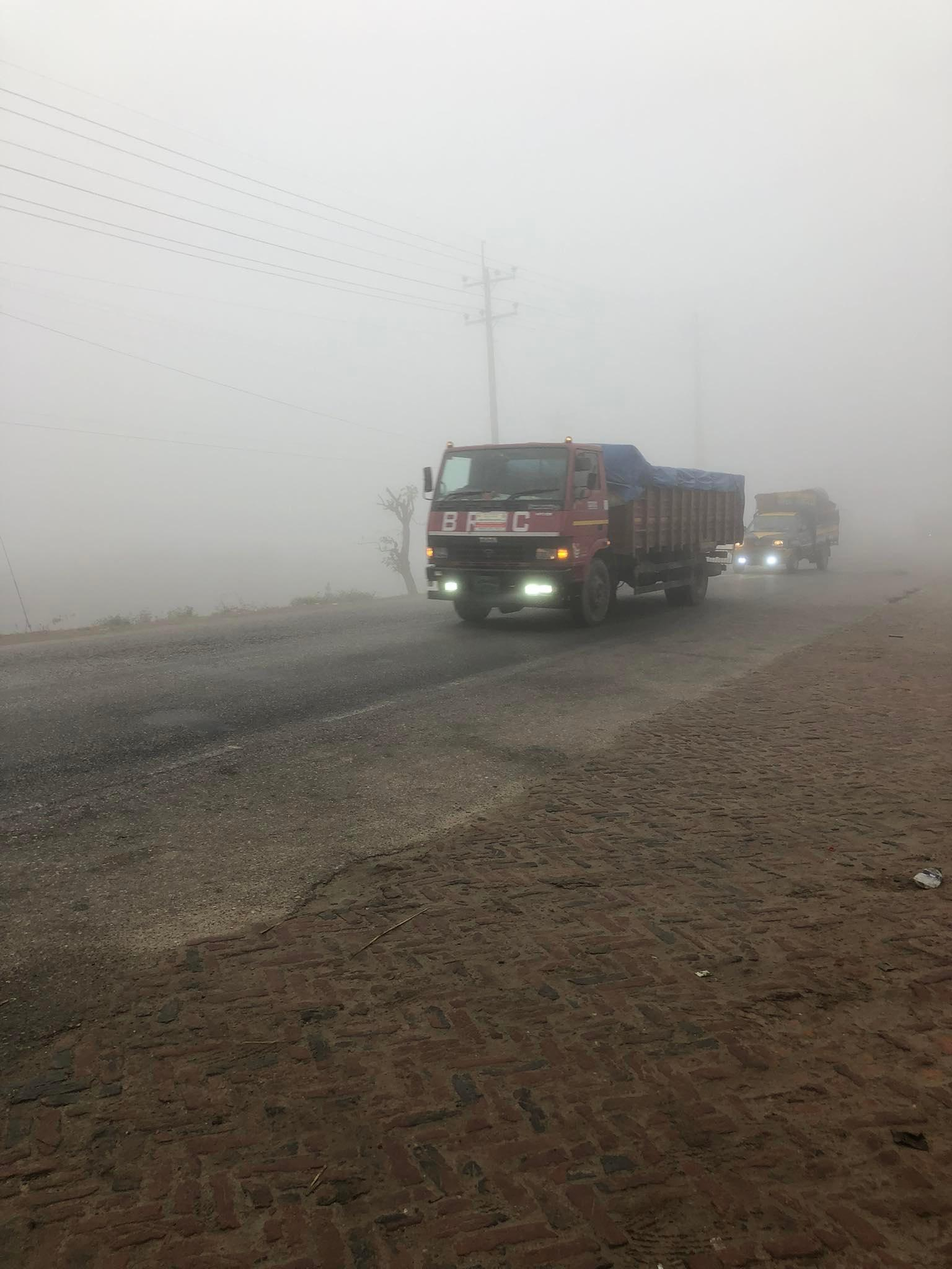Truck: (407, 414, 756, 631), (743, 485, 863, 583)
